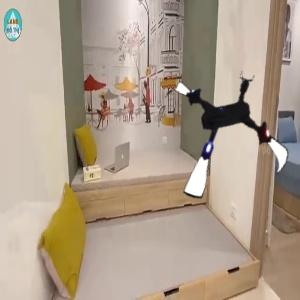drone: (152, 66, 296, 210)
